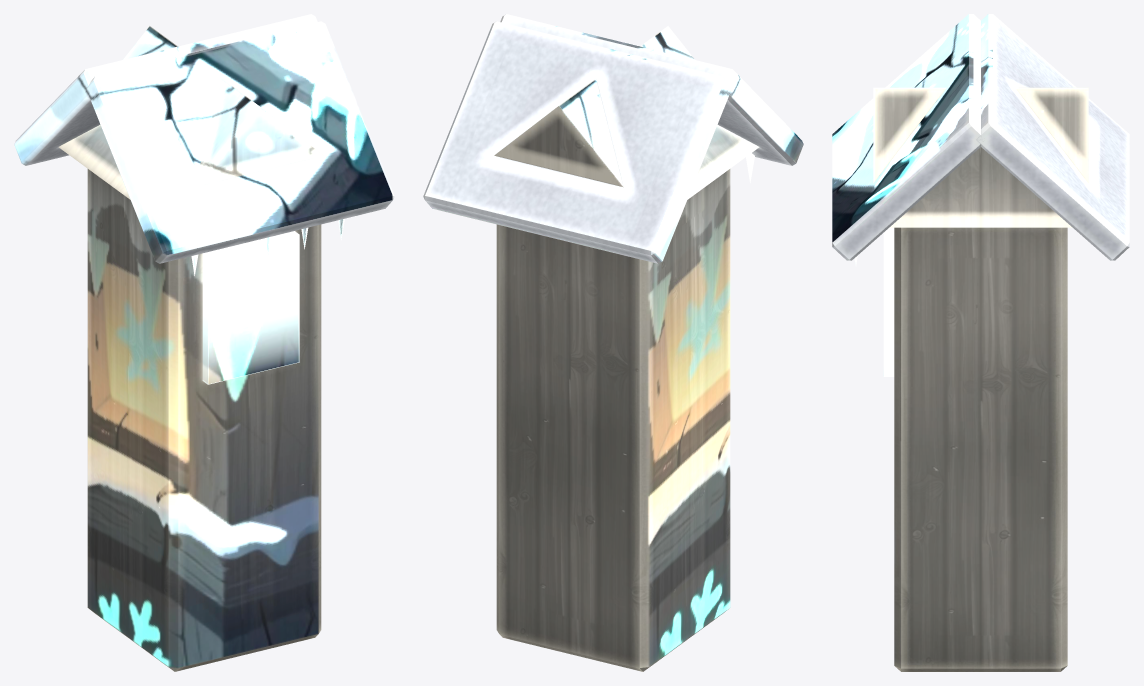
Rendered from rime.glb.
3 renders of one model, left to right at view 1: azimuth 30°, elevation 25°; view 2: azimuth 150°, elevation 25°; view 3: azimuth 270°, elevation 25°, orthographic.
Parts seen in each view (by area): view 1: rime; view 2: rime; view 3: rime.
Boxes of the visible parts, x1,y1,x2,y2 form: rime: (14,14,394,671); rime: (423,14,803,671); rime: (832,14,1129,671).
Bounding box in the file's own units: 0.76 × 1.81 × 0.8566.
1 material, 1 textured.
